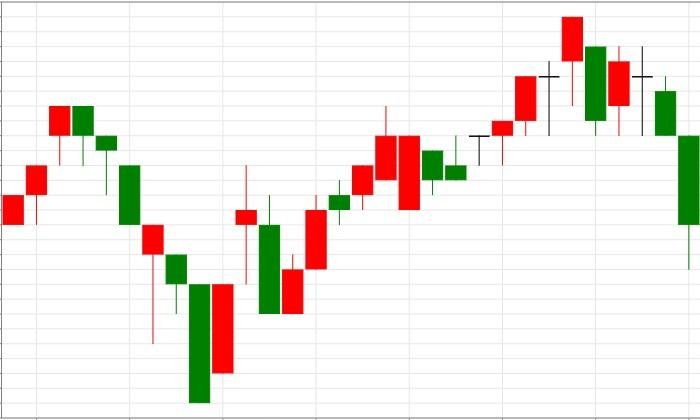hammer_rise: (49, 106, 164, 344)
